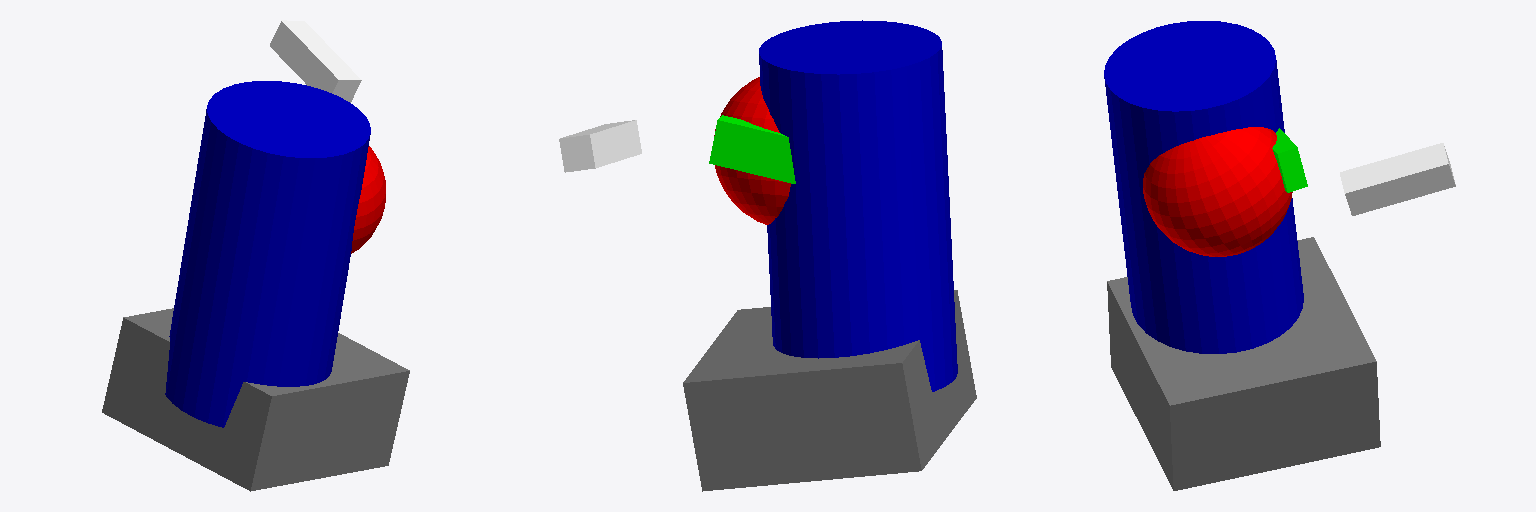
The robot description file, URDF, robot "simple_test_robot":
<?xml version="1.0"?>
<robot name="simple_test_robot">

  <material name="red">
    <color rgba="1.0 0.0 0.0 1.0"/>
  </material>

  <material name="green">
    <color rgba="0.0 1.0 0.0 1.0"/>
  </material>

  <material name="blue">
    <color rgba="0.0 0.0 0.8 1.0"/>
  </material>

  <material name="white">
    <color rgba="1.0 1.0 1.0 1.0"/>
  </material>

  <material name="gray">
    <color rgba="0.5 0.5 0.5 1.0"/>
  </material>

  <link name="base_link">
    <visual>
      <origin xyz="0.01 0.02 0.05" rpy="0.1 0.2 0.3"/>
      <geometry>
        <box size="0.2 0.2 0.1"/>
      </geometry>
      <material name="gray"/>
    </visual>
  </link>

  <link name="torso_link">
    <visual>
      <origin xyz="0 0 0.15" rpy="0 0.1 -0.1"/>
      <geometry>
        <cylinder radius="0.08" length="0.3"/>
      </geometry>
      <material name="blue"/>
    </visual>
  </link>

  <link name="upper_arm_link">
    <visual>
      <origin xyz="0.01 0.01 0" rpy="0.2 0 0"/>
      <geometry>
        <sphere radius="0.07"/>
      </geometry>
      <material name="red"/>
    </visual>
  </link>

  <link name="forearm_link">
    <visual>
      <origin xyz="-0.05 -0.02 -0.01" rpy="1.5707 0 0"/>
      <geometry>
        <mesh filename="./meshes/forearm.stl" scale="1.0 1.0 1.0"/>
      </geometry>
      <material name="green"/>
    </visual>
  </link>

  <link name="hand_link">
    <visual>
      <origin xyz="0 0.05 0" rpy="0 0.1 0.1"/>
      <geometry>
        <box size="0.03 0.1 0.03"/>
      </geometry>
      <material name="white"/>
    </visual>
  </link>

  <joint name="base_to_torso" type="revolute">
    <parent link="base_link"/>
    <child link="torso_link"/>
    <origin xyz="0 0 0.06" rpy="0.1 0 0.1"/>
    <axis xyz="0.1 0.2 1"/>
    <limit lower="-1.57" upper="1.57" effort="100" velocity="1.0"/>
  </joint>

  <joint name="torso_to_upper_arm" type="prismatic">
    <parent link="torso_link"/>
    <child link="upper_arm_link"/>
    <origin xyz="0.05 0 0.2" rpy="0.1 0.1 0"/>
    <axis xyz="0 1 0.1"/>
    <limit lower="0.0" upper="0.15" effort="100" velocity="1.0"/>
  </joint>
  
  <joint name="upper_arm_to_forearm" type="continuous">
    <parent link="upper_arm_link"/>
    <child link="forearm_link"/>
    <origin xyz="0 0.1 0" rpy="0 -0.2 0.2"/>
    <axis xyz="1 0.1 0.1"/>
  </joint>

  <joint name="forearm_to_hand" type="fixed">
    <parent link="forearm_link"/>
    <child link="hand_link"/>
    <origin xyz="0.12 0 0" rpy="0 0.3 -0.3"/>
  </joint>

</robot>

--- What the picture shows (computed from the rendered views, not written in the file) ---
Views: 3 orthographic renders of the robot side by side, from view 1: azimuth 30°, elevation 25°; view 2: azimuth 150°, elevation 25°; view 3: azimuth 270°, elevation 25°.
Model simple_test_robot with 5 links and 4 joints (1 revolute, 1 continuous, 1 prismatic, 1 fixed), rooted at base_link, posed all joints at 0.
Links seen in each view (by area): view 1: torso_link, base_link, hand_link, upper_arm_link; view 2: torso_link, base_link, upper_arm_link, forearm_link, hand_link; view 3: torso_link, base_link, upper_arm_link, hand_link, forearm_link.
Boxes of the visible links, box(x1,y1,x2,y2) form: torso_link: box(165, 81, 370, 427); base_link: box(102, 308, 409, 491); hand_link: box(270, 20, 361, 102); upper_arm_link: box(351, 146, 385, 253); torso_link: box(759, 20, 957, 391); base_link: box(683, 290, 976, 491); upper_arm_link: box(714, 77, 790, 224); forearm_link: box(709, 115, 795, 183); hand_link: box(559, 120, 641, 172); torso_link: box(1104, 21, 1303, 353); base_link: box(1107, 237, 1380, 490); upper_arm_link: box(1143, 127, 1292, 256); hand_link: box(1340, 143, 1455, 215); forearm_link: box(1272, 128, 1307, 192).
Size in the robot's own frame: 0.3036 by 0.3253 by 0.3978 metres.
Meshes: 1 distinct files referenced, 1 mesh visuals loaded (1 ASCII STL).